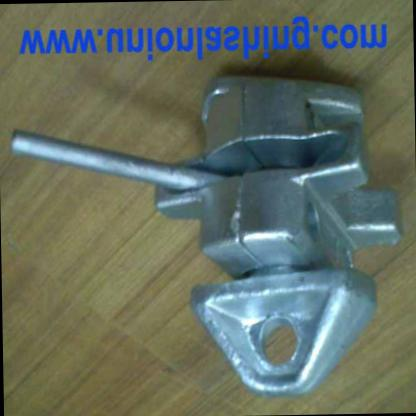Twistlock: (7, 71, 409, 406)
